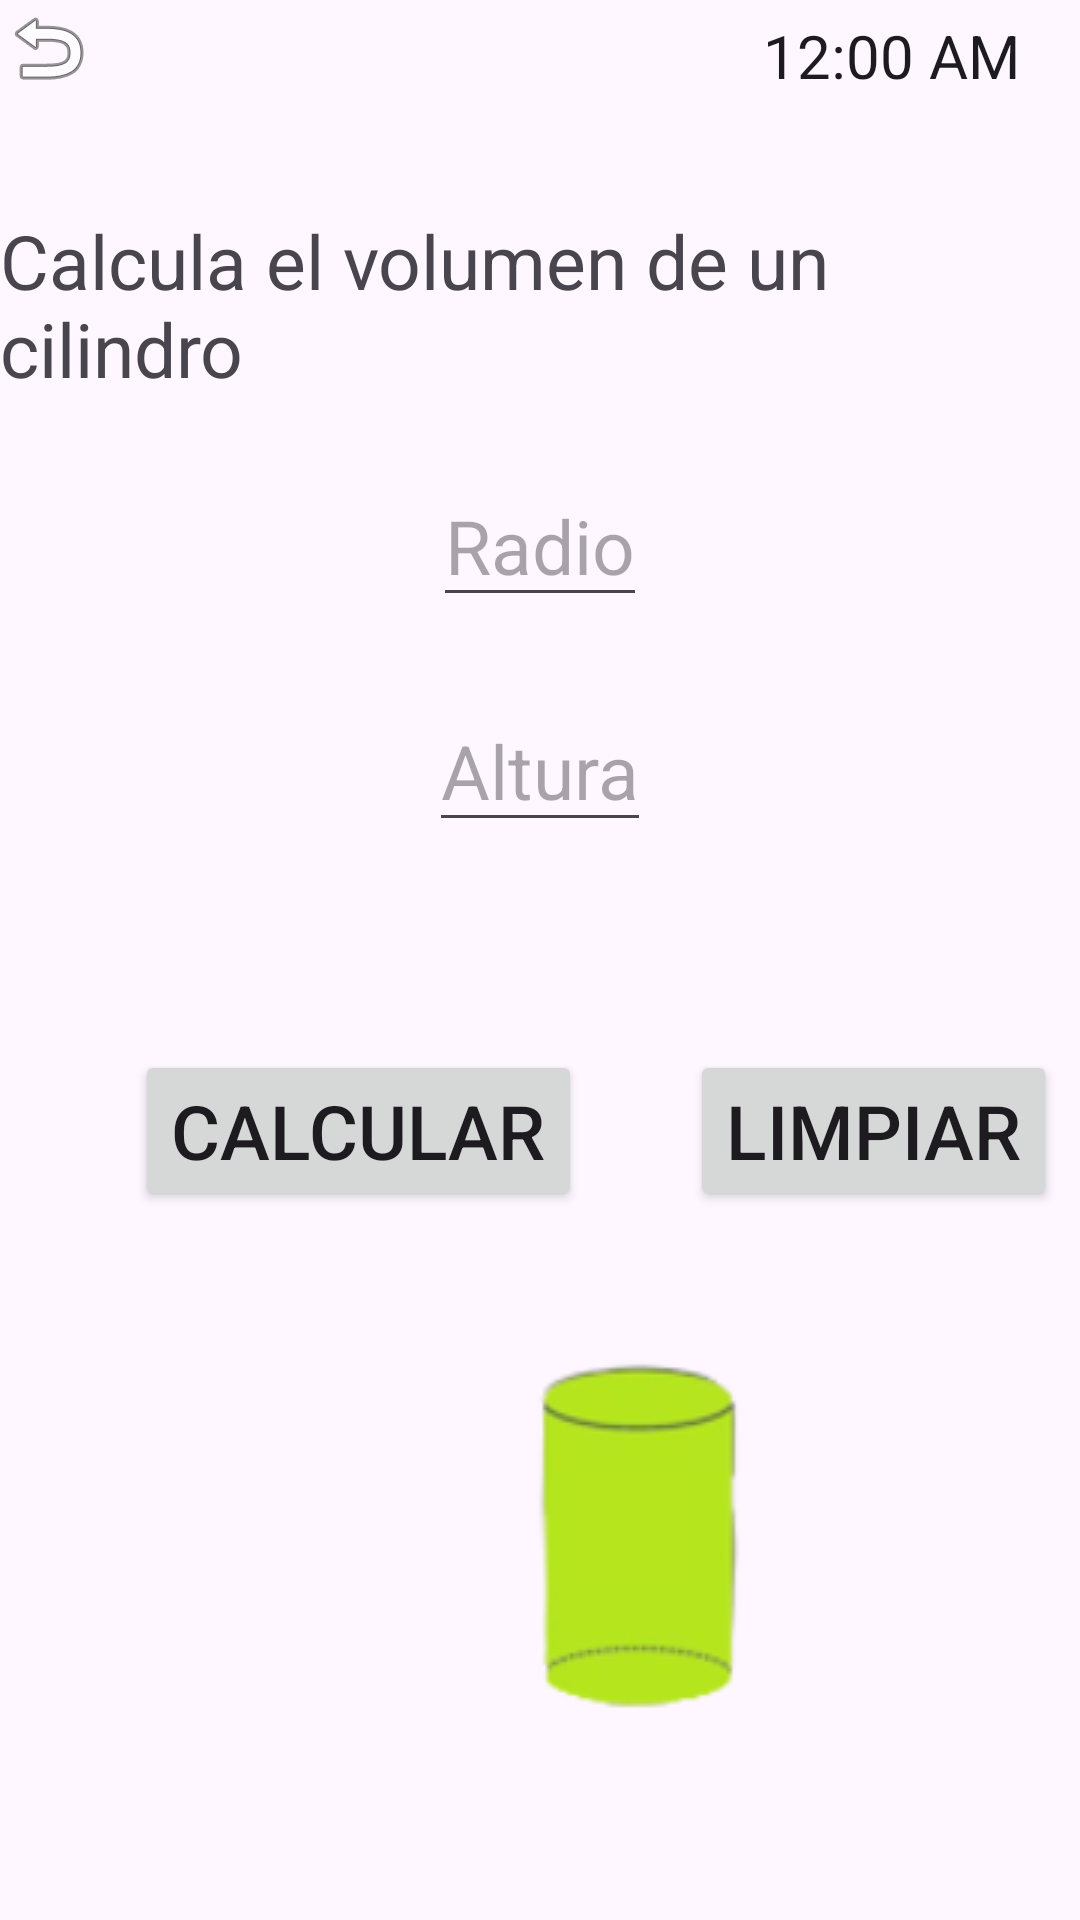

Point at icon controls on the screen. Image size 1080px×1920px, points as (x,y).
cilindro: (639,1536)
revert: (49,48)
